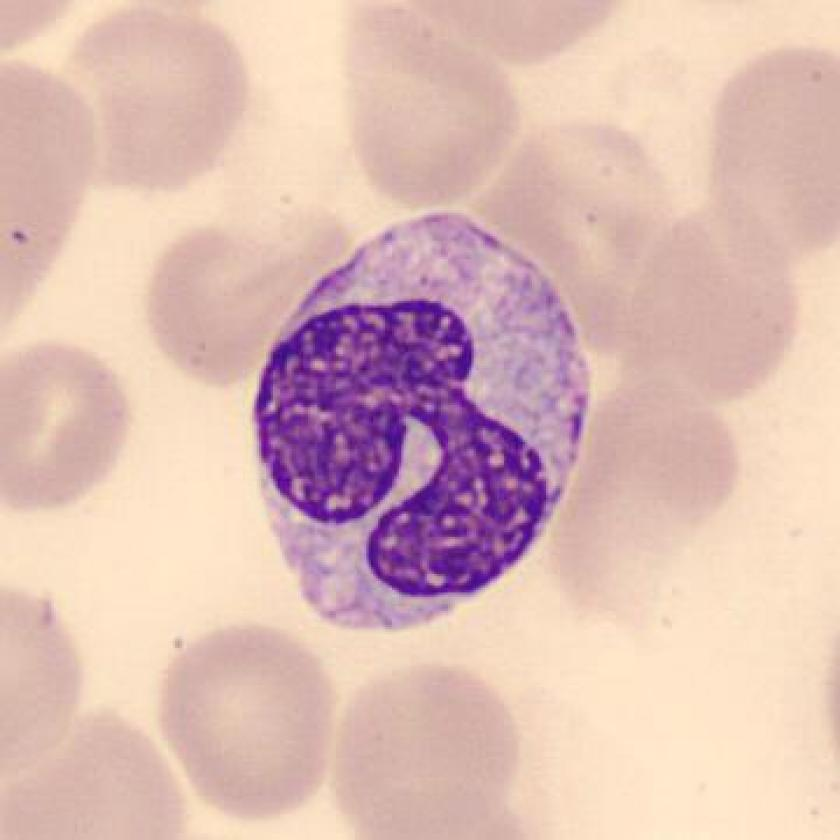monocyte: (234, 196, 617, 659)
